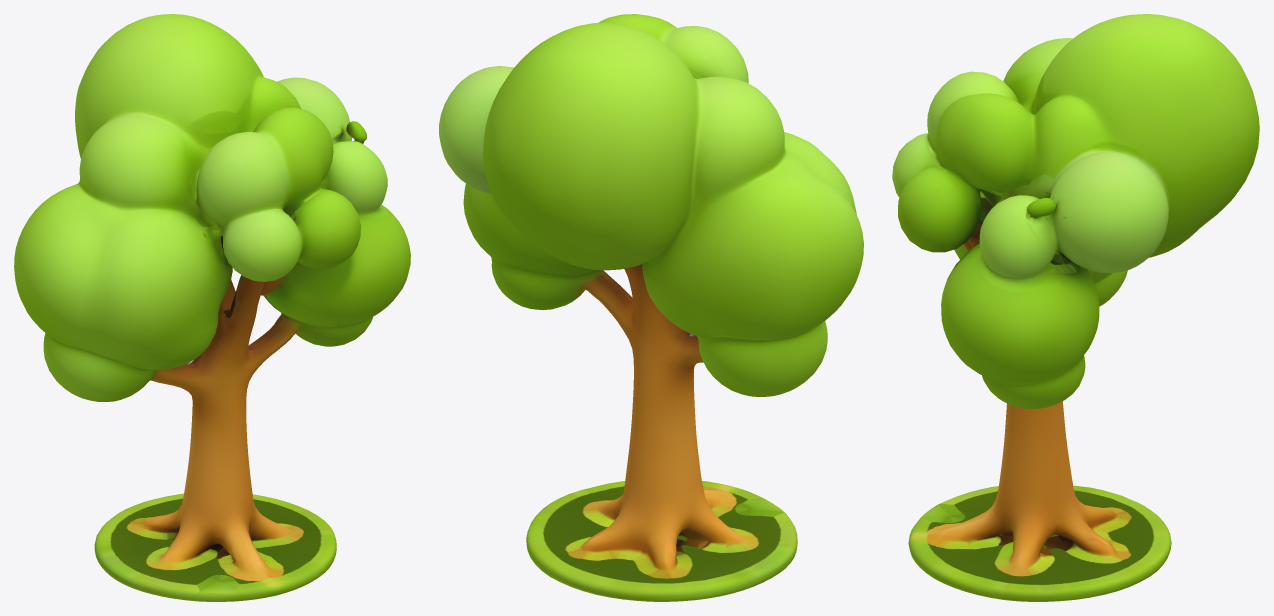
Rendered from base_basic_shaded.glb.
The picture shows the model from 3 angles, left to right: view 1: azimuth 30°, elevation 25°; view 2: azimuth 150°, elevation 25°; view 3: azimuth 270°, elevation 25°; orthographic projection. The views are drawn at different scales.
Visible parts, largest first — view 1: model; view 2: model; view 3: model.
Boxes of the visible parts, x1,y1,x2,y2 form: model: [14, 14, 410, 601]; model: [439, 14, 863, 601]; model: [892, 14, 1259, 601].
Bounding box in the file's own units: 1.43 × 1.9 × 1.2.
Materials: 1 (1 with a texture image).
